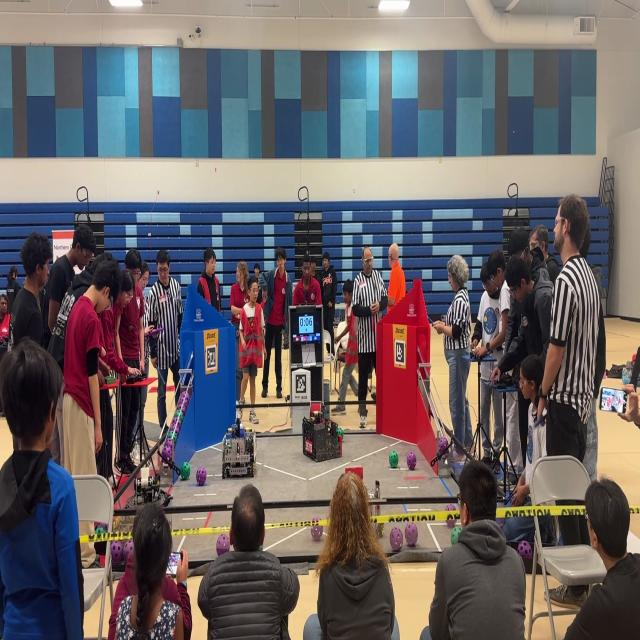artifact_green: (311, 517, 323, 541), (450, 526, 462, 545), (181, 462, 190, 480), (389, 451, 398, 468), (172, 421, 181, 436), (168, 431, 177, 445), (447, 515, 455, 528), (174, 411, 183, 422), (377, 524, 384, 538), (105, 376, 117, 384), (95, 527, 106, 535), (95, 523, 107, 530), (337, 427, 343, 437), (174, 408, 180, 416), (260, 545, 263, 551)
artifact_purple: (405, 522, 418, 547), (390, 527, 403, 551), (217, 534, 230, 556), (311, 518, 323, 541), (111, 541, 123, 564), (518, 541, 532, 558), (123, 539, 133, 562), (162, 440, 172, 461), (196, 467, 206, 486), (407, 451, 416, 471), (438, 437, 448, 455), (178, 396, 188, 413), (176, 398, 185, 414), (169, 417, 178, 431), (181, 392, 189, 405), (179, 391, 188, 402), (174, 422, 181, 436), (175, 418, 181, 434), (96, 523, 107, 531), (179, 404, 187, 415), (95, 527, 106, 535), (445, 504, 457, 511), (184, 395, 190, 407)
